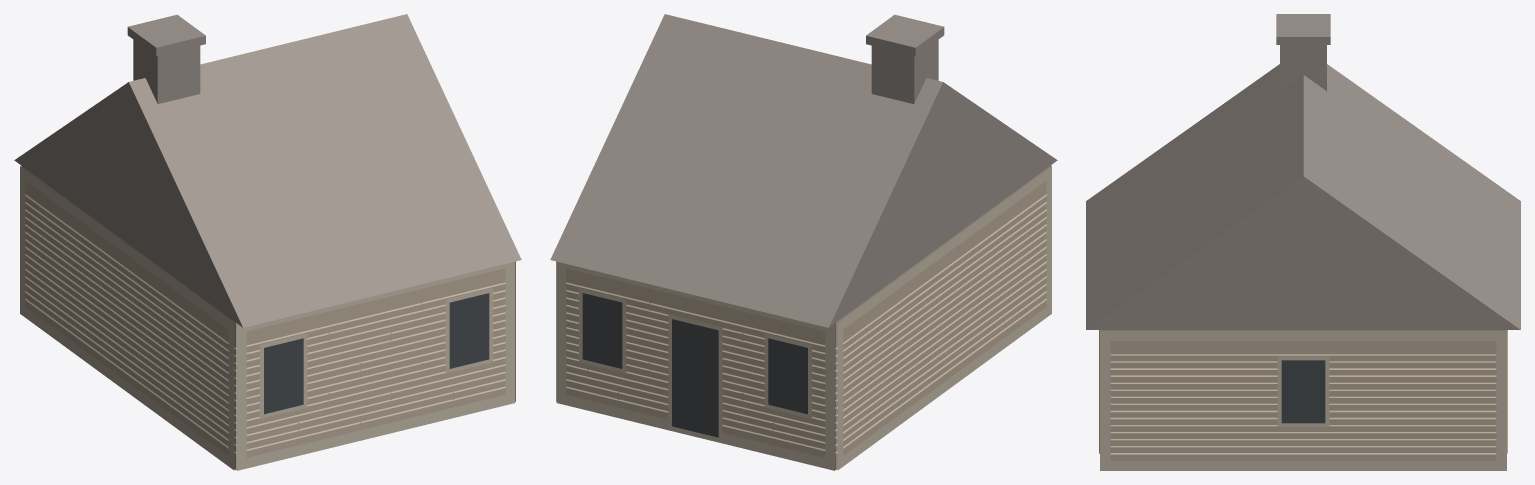
The model's file is inf_mason_dwelling_north__inferred_1835.glb.
3 renders of one model, left to right at view 1: azimuth 30°, elevation 25°; view 2: azimuth 150°, elevation 25°; view 3: azimuth 270°, elevation 25°, orthographic. The views are drawn at different scales.
Visible parts, largest first — view 1: inf_mason_dwelling_north__inferred_1835; view 2: inf_mason_dwelling_north__inferred_1835; view 3: inf_mason_dwelling_north__inferred_1835.
Part boxes in pixels (x1,y1,x2,y2): inf_mason_dwelling_north__inferred_1835: (14,14,521,470); inf_mason_dwelling_north__inferred_1835: (550,14,1057,470); inf_mason_dwelling_north__inferred_1835: (1086,14,1520,470).
Bounding box in the file's own units: 5.57 × 6.61 × 7.82.
